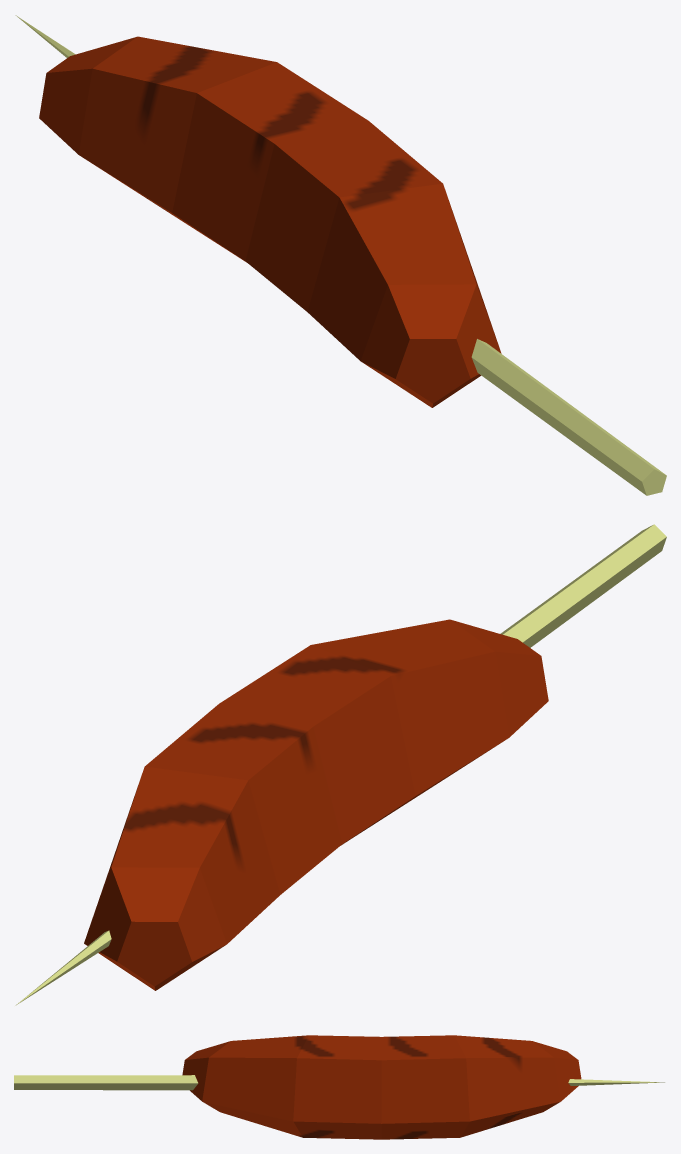
Rendered from right.fbx.
3 views of the same model, one above another, from view 1: azimuth 30°, elevation 25°; view 2: azimuth 150°, elevation 25°; view 3: azimuth 270°, elevation 25° (orthographic). The views are drawn at different scales.
Parts seen in each view (by area): view 1: SauStick; view 2: SauStick; view 3: SauStick.
Part boxes in pixels (x1,y1,x2,y2): SauStick: (15, 15, 666, 495); SauStick: (15, 524, 666, 1005); SauStick: (14, 1035, 664, 1139).
Size of the model in its own units: 48.31 by 45.71 by 297.
2 materials, 1 textured.
